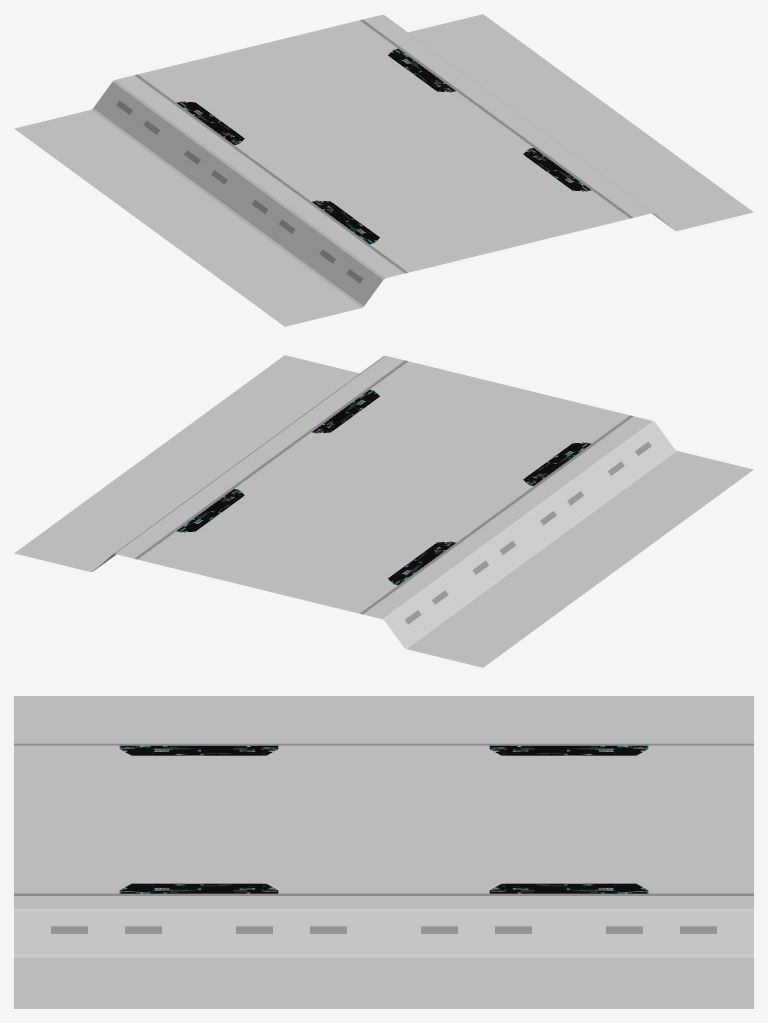
File: ceiling_11.fbx
3 renders of one model, top to bottom at view 1: azimuth 30°, elevation 25°; view 2: azimuth 150°, elevation 25°; view 3: azimuth 270°, elevation 25°, orthographic. The views are drawn at different scales.
Parts seen in each view (by area): view 1: Plane.586, Plane.587, Plane.588; view 2: Plane.586, Plane.587, Plane.588; view 3: Plane.586, Plane.587, Plane.588.
Part boxes in pixels (<box>): Plane.586: <box>14,14,753,326</box>; Plane.587: <box>61,25,706,315</box>; Plane.588: <box>116,19,633,283</box>; Plane.586: <box>14,355,753,667</box>; Plane.587: <box>61,366,706,656</box>; Plane.588: <box>134,360,651,624</box>; Plane.586: <box>14,696,753,1008</box>; Plane.587: <box>14,727,753,977</box>; Plane.588: <box>14,743,753,933</box>.
Bounding box in the file's own units: 6 × 0.2933 × 6.
